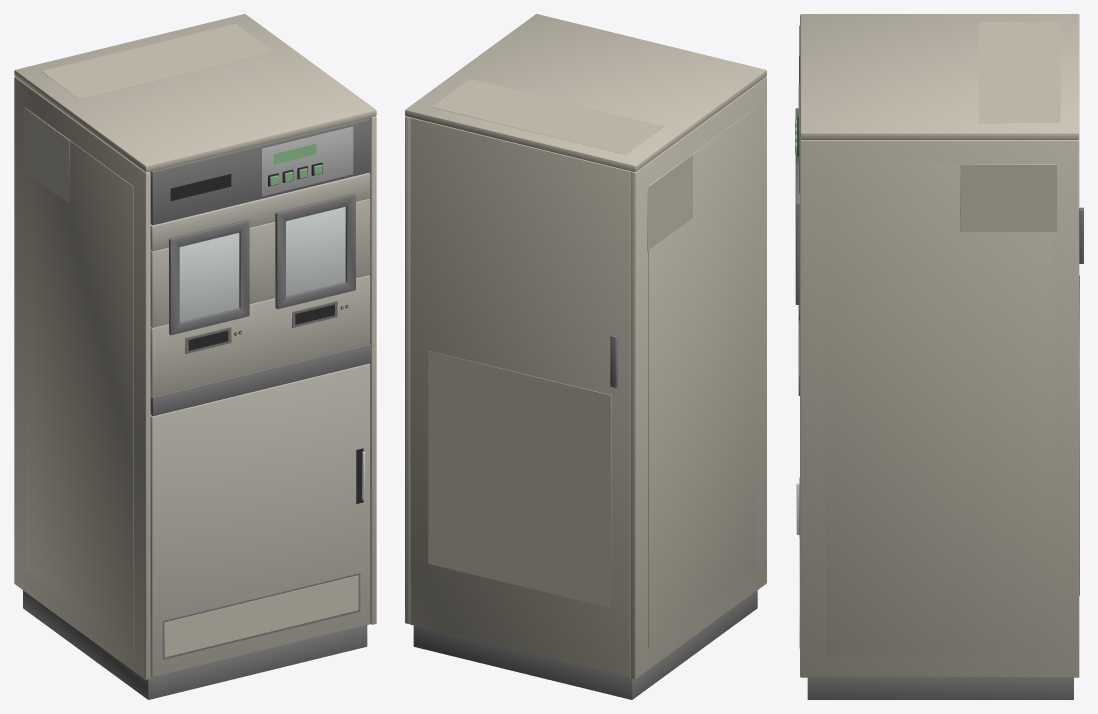
Rendered from Kit_TapeDrive_Cartridge.fbx.
3 renders of one model, left to right at view 1: azimuth 30°, elevation 25°; view 2: azimuth 150°, elevation 25°; view 3: azimuth 270°, elevation 25°, orthographic. The views are drawn at different scales.
Parts seen in each view (by area): view 1: Kit_TapeDrive_Cartridge_LOD0; view 2: Kit_TapeDrive_Cartridge_LOD0; view 3: Kit_TapeDrive_Cartridge_LOD0.
Part boxes in pixels (<box>): Kit_TapeDrive_Cartridge_LOD0: <box>14,14,376,699</box>; Kit_TapeDrive_Cartridge_LOD0: <box>405,14,766,699</box>; Kit_TapeDrive_Cartridge_LOD0: <box>795,14,1083,699</box>.
Size of what is drawn, in the model's own units: 0.7671 by 1.69 by 0.7756.
